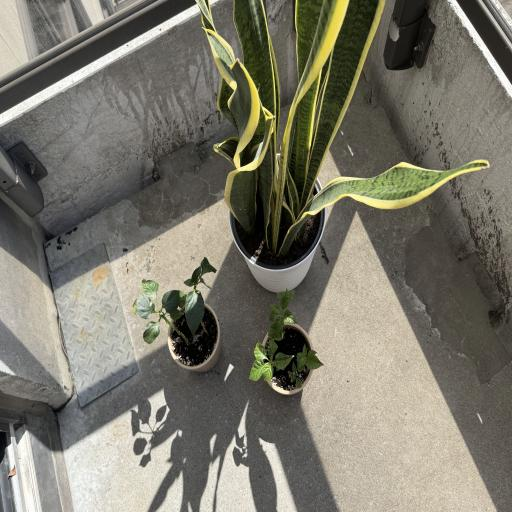Plant Pot: (228, 162, 328, 291), (258, 323, 320, 398), (167, 301, 221, 369)
